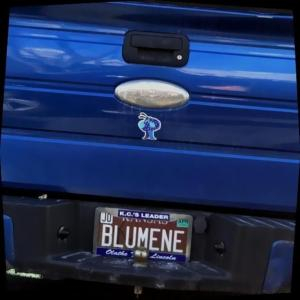Plate: (91, 206, 193, 263)
